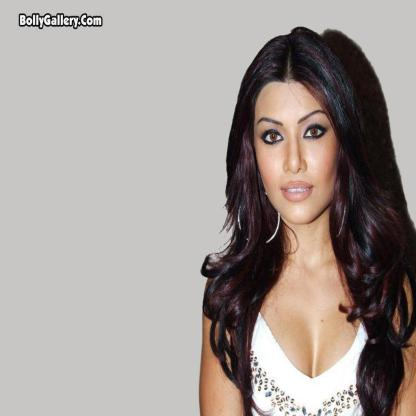long-hair: (195, 222, 411, 277)
